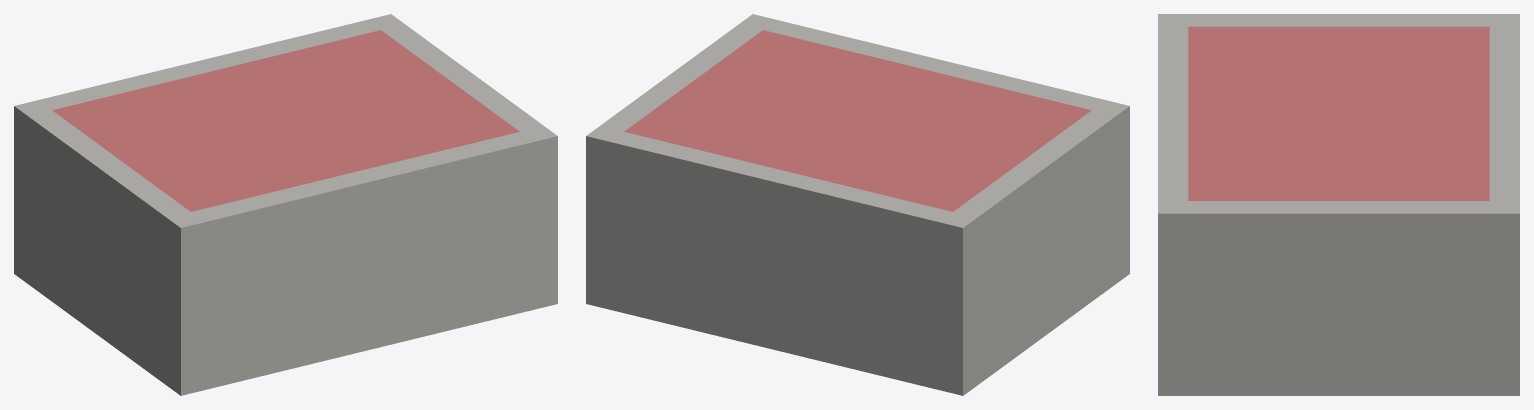
File: step_02.glb
3 renders of one model, left to right at view 1: azimuth 30°, elevation 25°; view 2: azimuth 150°, elevation 25°; view 3: azimuth 270°, elevation 25°, orthographic. The views are drawn at different scales.
Parts seen in each view (by area): view 1: part__inspection chamber, removed__inspection chamber; view 2: part__inspection chamber, removed__inspection chamber; view 3: part__inspection chamber, removed__inspection chamber.
Part boxes in pixels (x1,y1,x2,y2): part__inspection chamber: (14, 14, 557, 395); removed__inspection chamber: (52, 30, 519, 211); part__inspection chamber: (586, 14, 1129, 395); removed__inspection chamber: (624, 30, 1091, 211); part__inspection chamber: (1158, 14, 1519, 395); removed__inspection chamber: (1188, 26, 1489, 200).
Size of the model in its own units: 2350 by 1000 by 1800.
